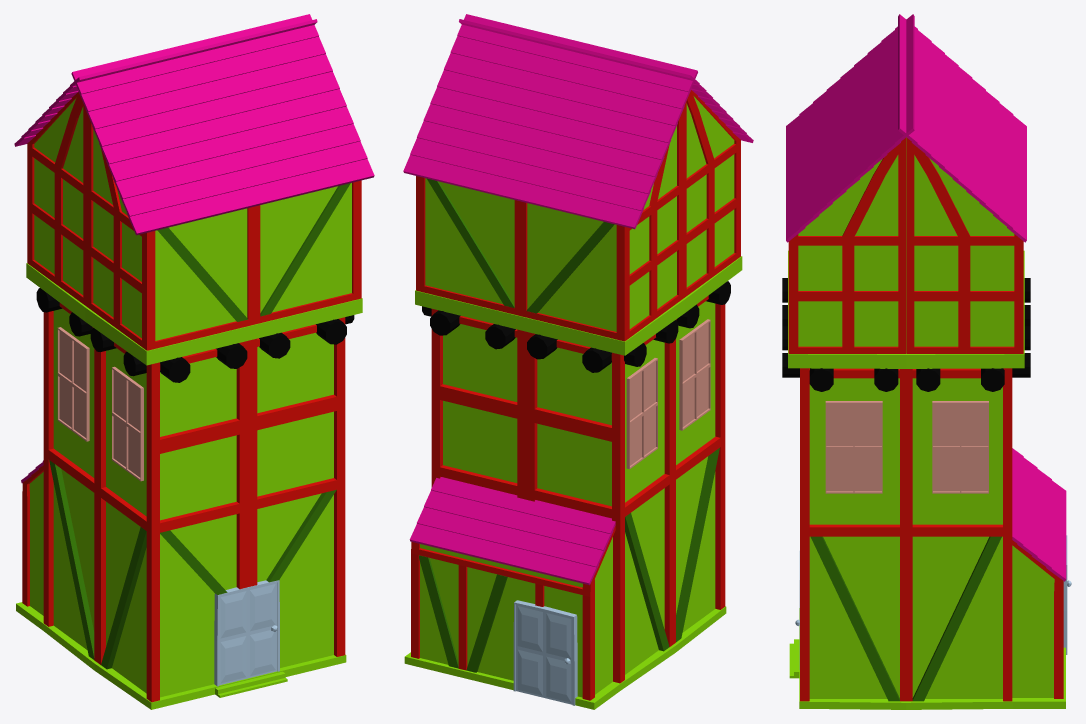
The model's file is building#2_Finished.fbx.
The picture shows the model from 3 angles, left to right: view 1: azimuth 30°, elevation 25°; view 2: azimuth 150°, elevation 25°; view 3: azimuth 270°, elevation 25°; orthographic projection. The views are drawn at different scales.
Visible parts, largest first — view 1: Building Main, roof.001, Building Braces.001, Building support, Door, Window_Square.002, Window_Square.003, roof, Building supports.008, Building supports.003, Building supports.006, Building supports.005 (+7 smaller); view 2: Building Main, roof, Building Braces.001, Building support, Roof, Door.001, Building Braces, Window_Square.003, Window_Square.002, roof.001, Building supports.003, Building supports.008 (+8 smaller); view 3: Building Main, Building support, roof, roof.001, Building Braces.001, Window_Square, Window_Square.001, Roof, Building supports.008, Building supports.003, Building Braces, log.002 (+5 smaller).
Boxes of the visible parts, x1=… form: Building Main: x1=16, y1=98, x2=362, y2=709; roof.001: x1=71, y1=14, x2=374, y2=235; Building Braces.001: x1=43, y1=303, x2=345, y2=702; Building support: x1=27, y1=92, x2=361, y2=350; Door: x1=214, y1=580, x2=279, y2=686; Window_Square.002: x1=57, y1=327, x2=89, y2=441; Window_Square.003: x1=112, y1=366, x2=143, y2=481; roof: x1=14, y1=19, x2=317, y2=146; Building supports.008: x1=49, y1=460, x2=94, y2=659; Building supports.003: x1=101, y1=527, x2=146, y2=669; Building supports.006: x1=260, y1=183, x2=350, y2=316; Building supports.005: x1=157, y1=227, x2=248, y2=321; Building Main: x1=404, y1=96, x2=742, y2=709; roof: x1=403, y1=14, x2=697, y2=229; Building Braces.001: x1=431, y1=295, x2=725, y2=683; Building support: x1=416, y1=90, x2=740, y2=341; Roof: x1=409, y1=477, x2=615, y2=585; Door.001: x1=513, y1=600, x2=577, y2=705; Building Braces: x1=411, y1=526, x2=615, y2=700; Window_Square.003: x1=679, y1=319, x2=710, y2=430; Window_Square.002: x1=626, y1=358, x2=657, y2=469; roof.001: x1=459, y1=19, x2=753, y2=142; Building supports.003: x1=676, y1=448, x2=719, y2=642; Building supports.008: x1=625, y1=513, x2=669, y2=651; Building Main: x1=788, y1=137, x2=1065, y2=709; Building support: x1=788, y1=137, x2=1023, y2=353; roof: x1=898, y1=14, x2=1026, y2=242; roof.001: x1=786, y1=14, x2=914, y2=242; Building Braces.001: x1=800, y1=368, x2=1012, y2=701; Window_Square: x1=825, y1=401, x2=882, y2=493; Window_Square.001: x1=932, y1=401, x2=988, y2=493; Roof: x1=1012, y1=448, x2=1066, y2=581; Building supports.008: x1=912, y1=536, x2=1001, y2=701; Building supports.003: x1=810, y1=536, x2=899, y2=701; Building Braces: x1=1012, y1=540, x2=1063, y2=698; log.002: x1=782, y1=353, x2=1030, y2=377.
Bounding box in the file's own units: 389 × 941 × 417.
